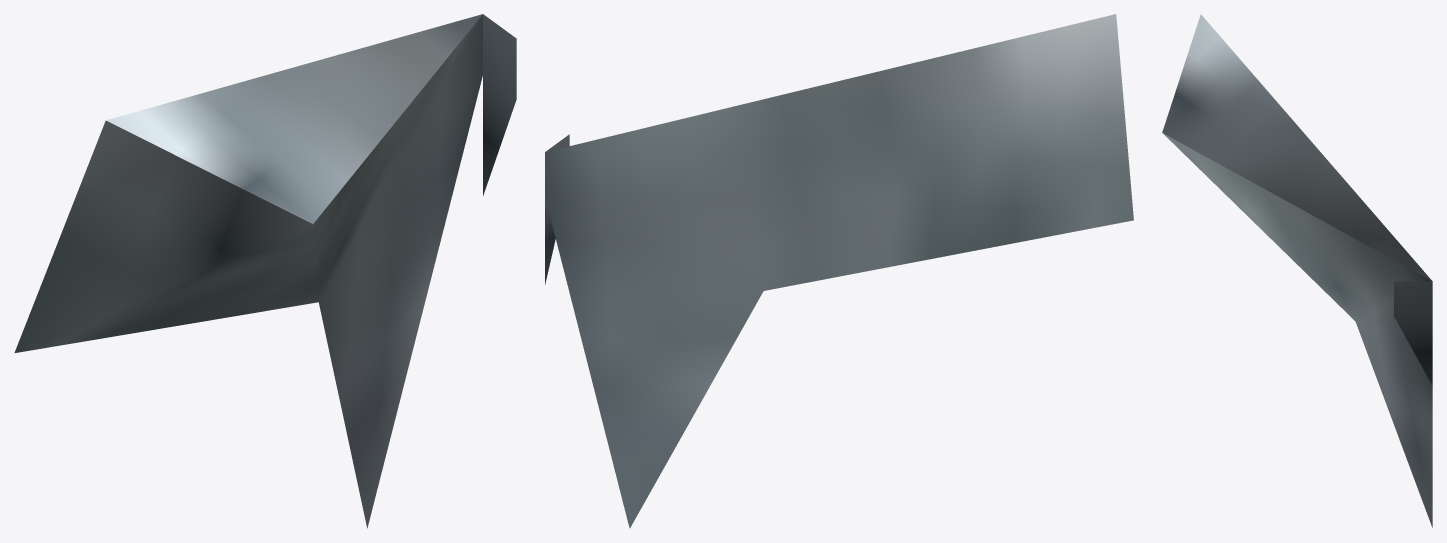
3 views of the same model, side by side, from view 1: azimuth 30°, elevation 25°; view 2: azimuth 150°, elevation 25°; view 3: azimuth 270°, elevation 25° (orthographic). The views are drawn at different scales.
Visible parts, largest first — view 1: 30436272704361506525_0; view 2: 30436272704361506525_0; view 3: 30436272704361506525_0.
Part boxes in pixels (x1,y1,x2,y2): 30436272704361506525_0: [14, 14, 516, 528]; 30436272704361506525_0: [545, 14, 1133, 528]; 30436272704361506525_0: [1162, 14, 1432, 527].
Bounding box in the file's own units: 1.69 × 1.69 × 1.08.
Materials: 1 (1 with a texture image).
